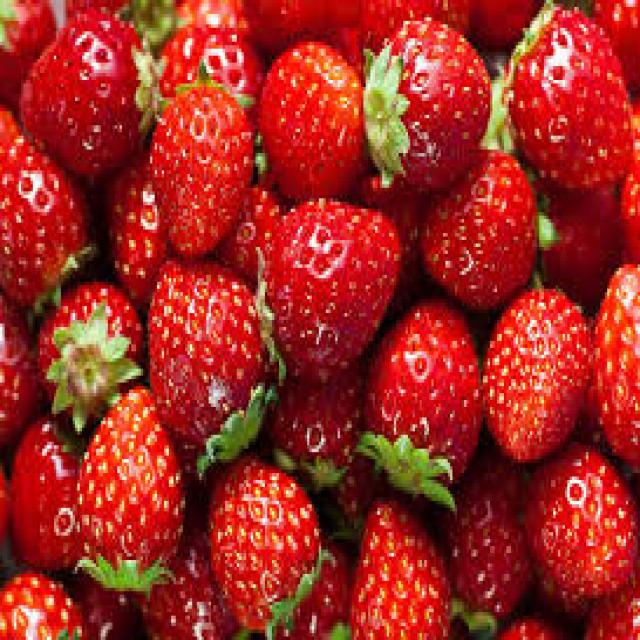Berries strawberries/blueberries: (521, 3, 636, 184), (369, 320, 479, 501), (166, 259, 260, 459), (367, 16, 491, 164), (269, 196, 366, 379), (53, 10, 156, 170), (215, 465, 322, 616), (530, 458, 640, 602), (79, 443, 185, 592), (262, 40, 363, 194), (349, 506, 449, 640), (514, 290, 591, 457), (152, 80, 252, 208), (38, 285, 136, 412), (3, 172, 94, 300), (464, 156, 544, 291)
